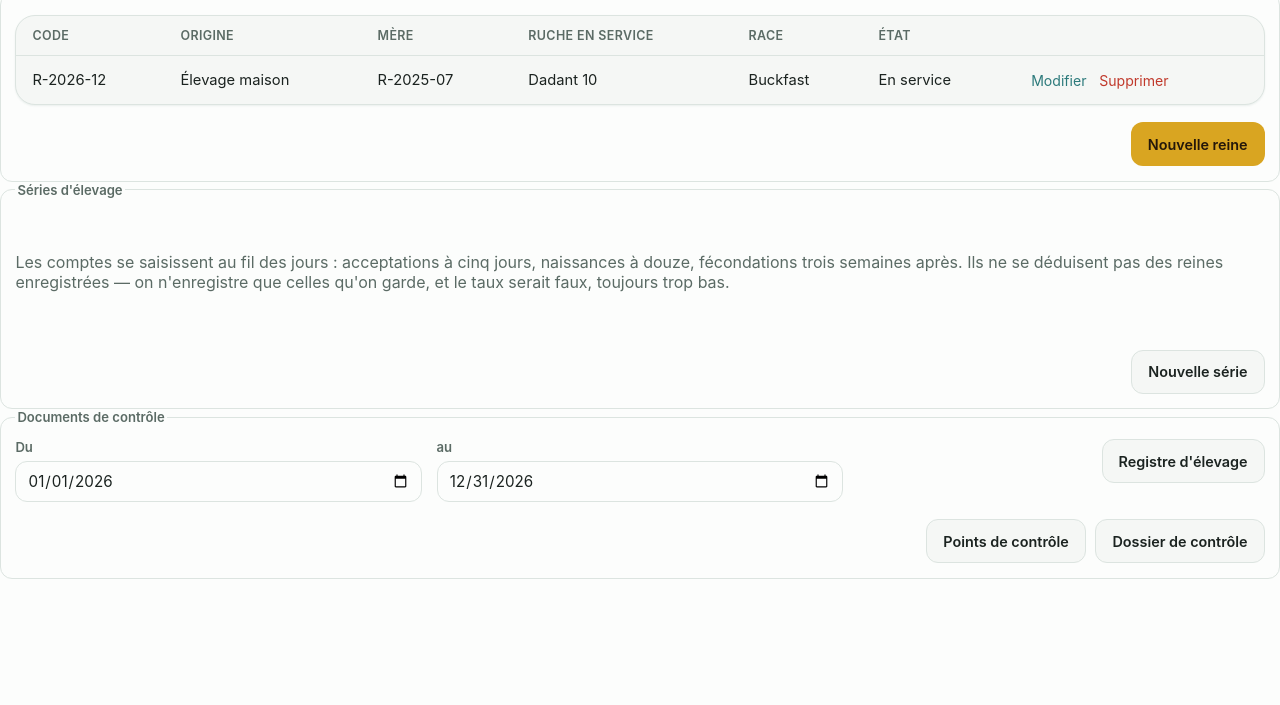
Scenario: élevage › affiche l’avertissement du dossier de contrôle avant ses points
Click the button "Points de contrôle" at (1006, 541), box [926,519,1086,563]
(page scrolled)
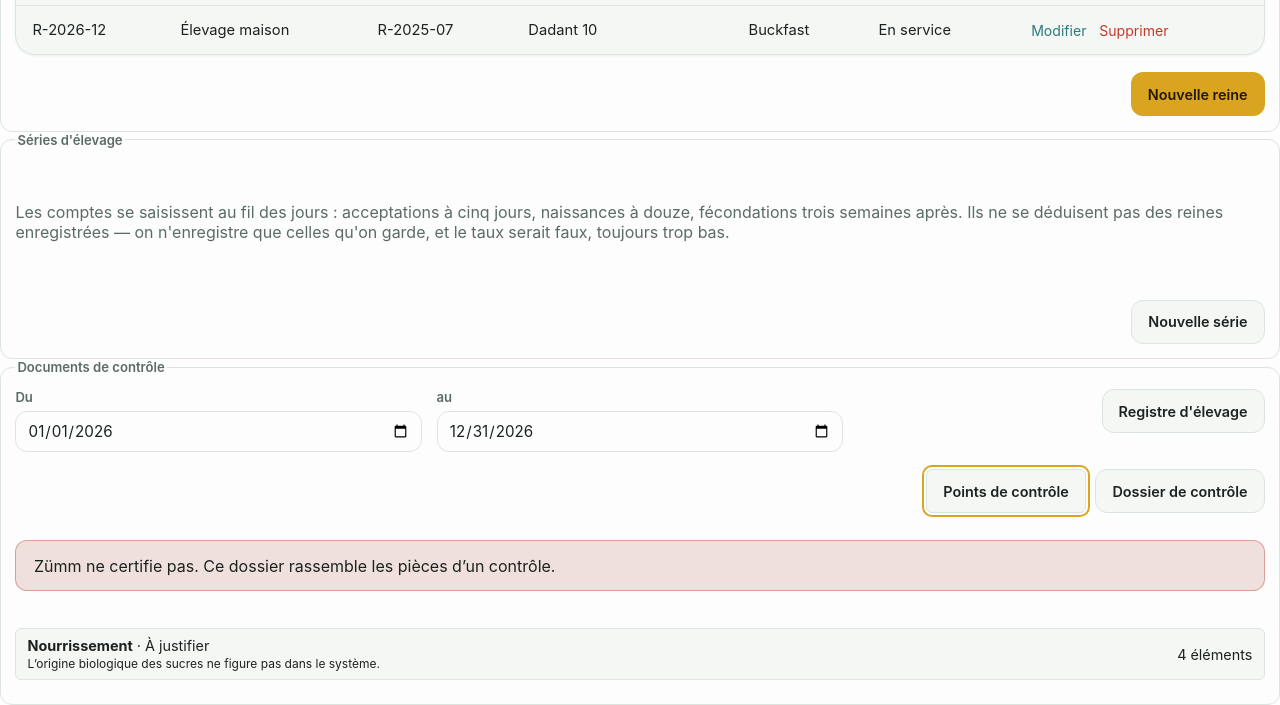
Expected: the text "Zümm ne certifie pas. Ce dossier rassemble les pièces d’un contrôle." is shown, [15,540,1265,591]
Expected: the text "À justifier" is shown, [145,637,209,654]
